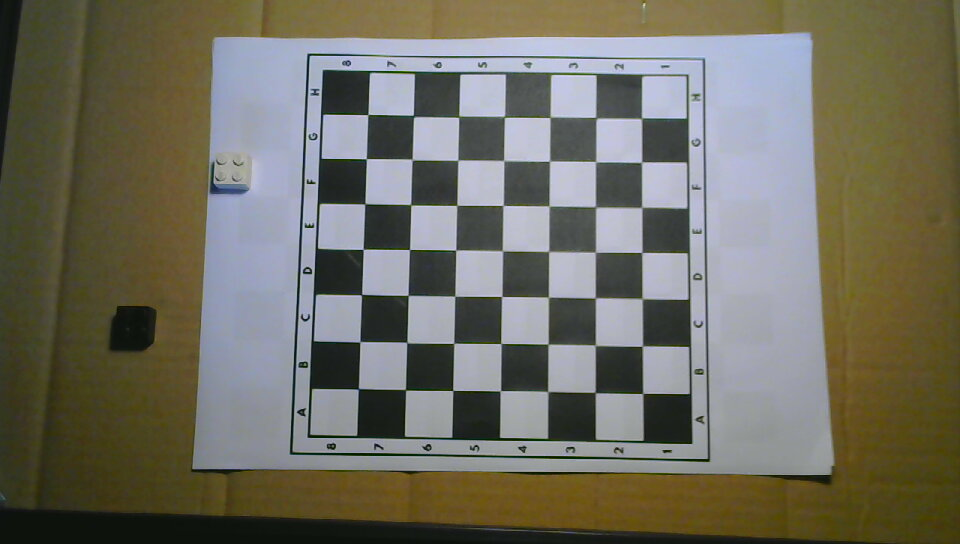bp: (113, 303, 156, 346)
wp: (213, 151, 252, 192)
